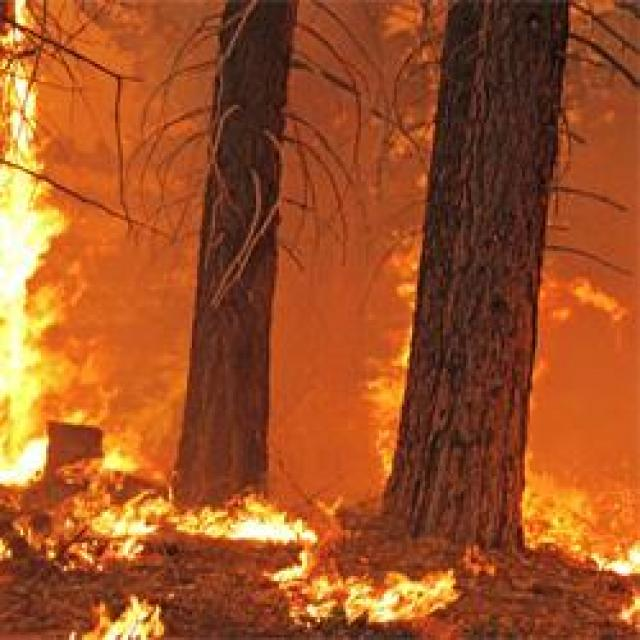fire: (0, 0, 101, 504), (127, 472, 329, 575), (529, 470, 640, 640), (357, 201, 412, 481), (284, 565, 476, 626), (30, 598, 190, 636)
